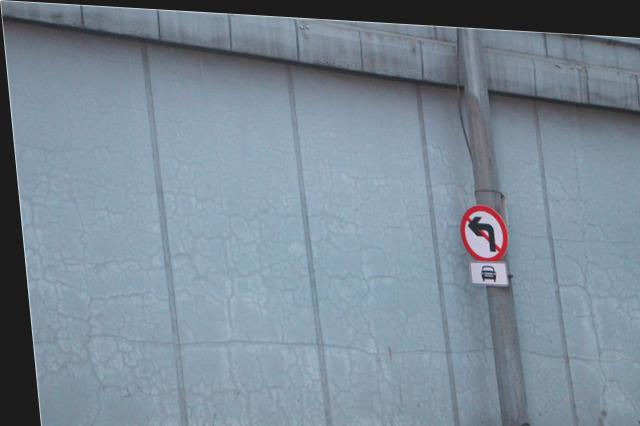not_turn_left: (455, 200, 509, 254)
